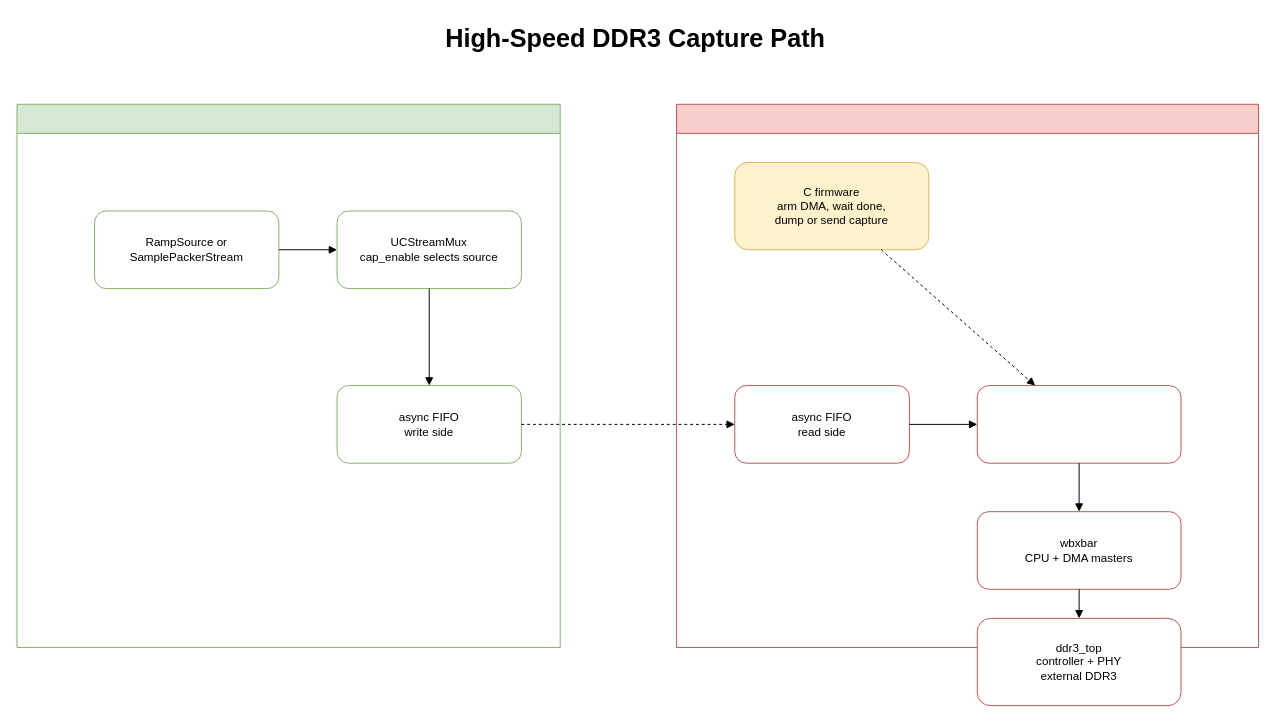
This 1276x723 diagram has some shape labels left out. Here are the shapes that lost their labels. From the top down, the box of each, then its label:
(16, 103, 560, 647): UC domain
(676, 103, 1259, 647): SYS domain
(976, 385, 1181, 463): zipdma_s2mm stream-to-memory writer
